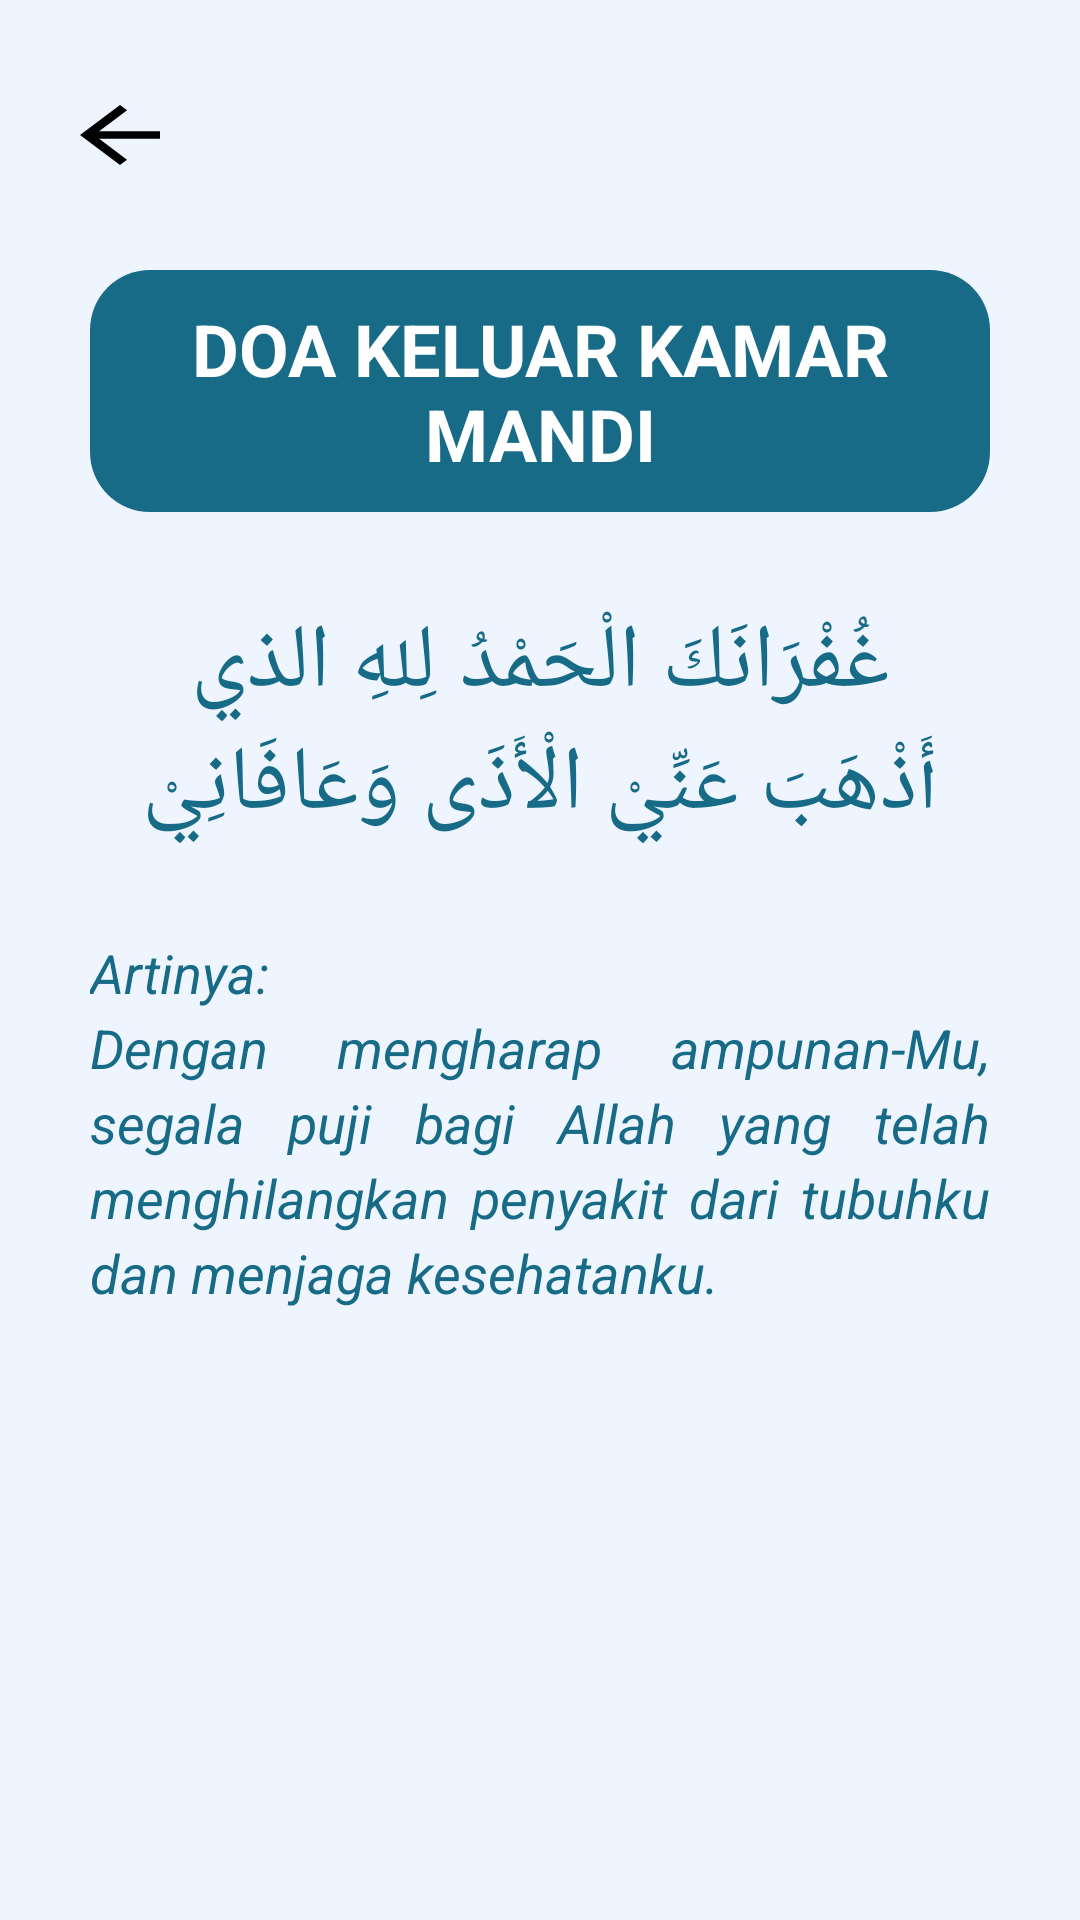

Named icons in this screenshot (1080 × 1920) and their bounding boxes, [x1, y1, x2, y2]:
arrow back: [80, 105, 160, 165]
